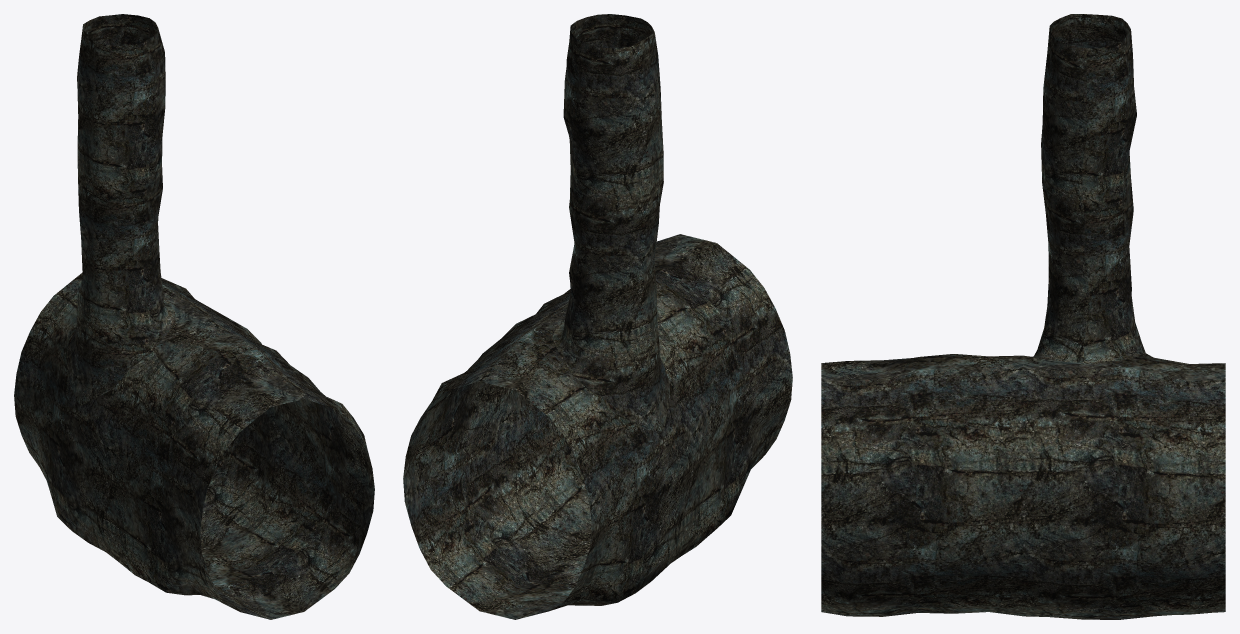
The model's file is 02_06_straight_ladder_special.dae.
The picture shows the model from 3 angles, left to right: view 1: azimuth 30°, elevation 25°; view 2: azimuth 150°, elevation 25°; view 3: azimuth 270°, elevation 25°; orthographic projection. The views are drawn at different scales.
Visible parts, largest first — view 1: 02_06_straight_ladder_special; view 2: 02_06_straight_ladder_special; view 3: 02_06_straight_ladder_special.
Part boxes in pixels (x1,y1,x2,y2): 02_06_straight_ladder_special: (14, 14, 374, 619); 02_06_straight_ladder_special: (403, 14, 792, 619); 02_06_straight_ladder_special: (821, 14, 1225, 619).
Size of the model in its own units: 4.6 by 12.18 by 8.
